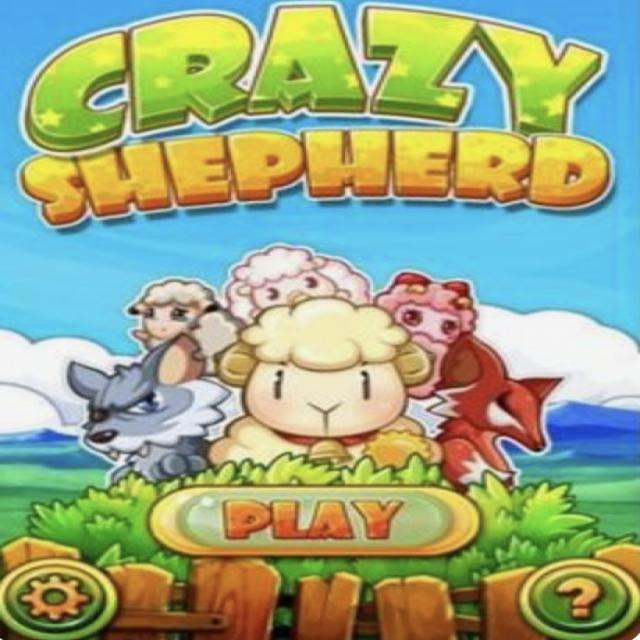Start-button: (164, 486, 475, 549)
